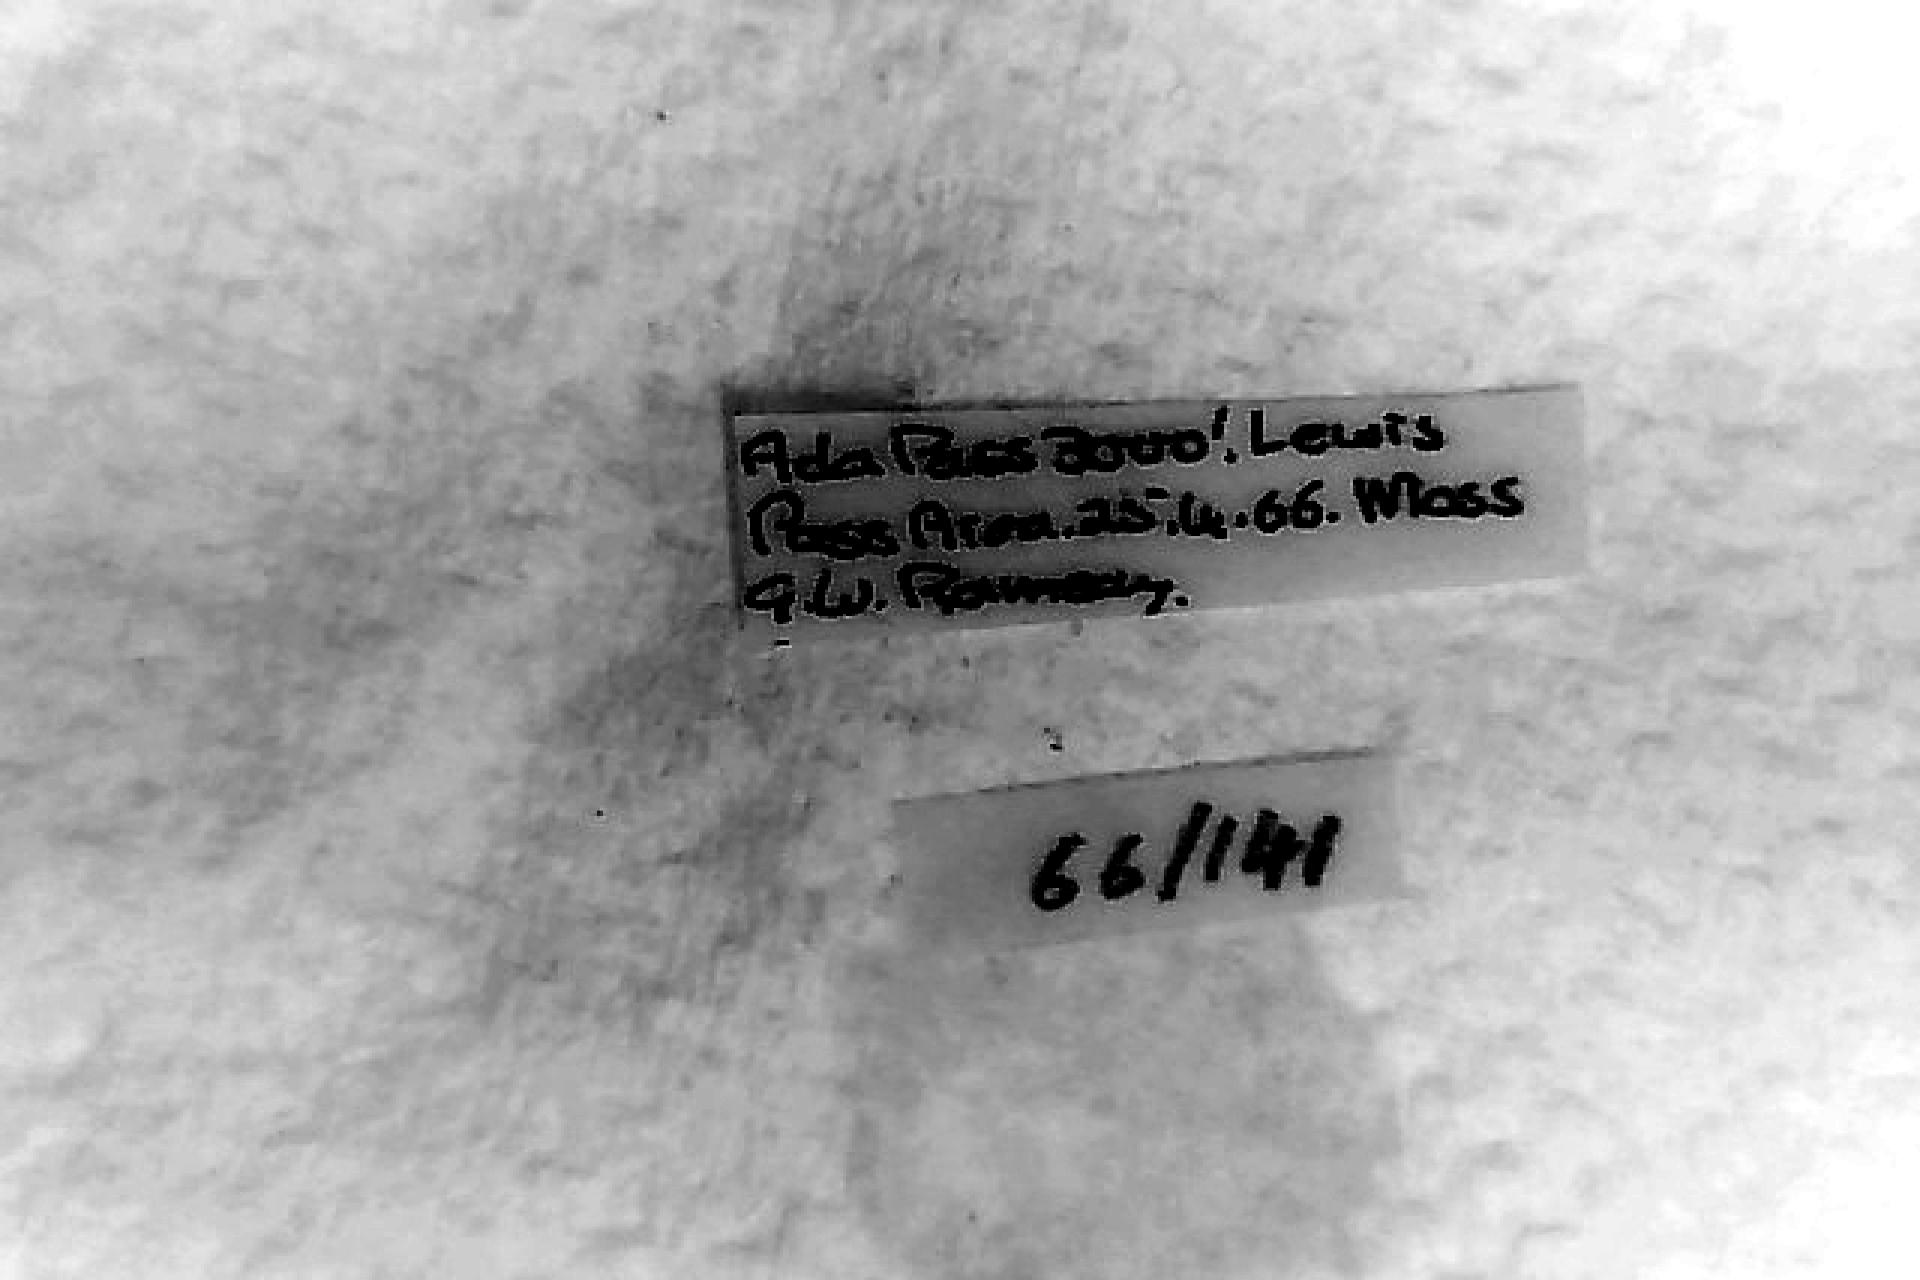hand_label: (737, 387, 1586, 631), (896, 757, 1399, 947)
